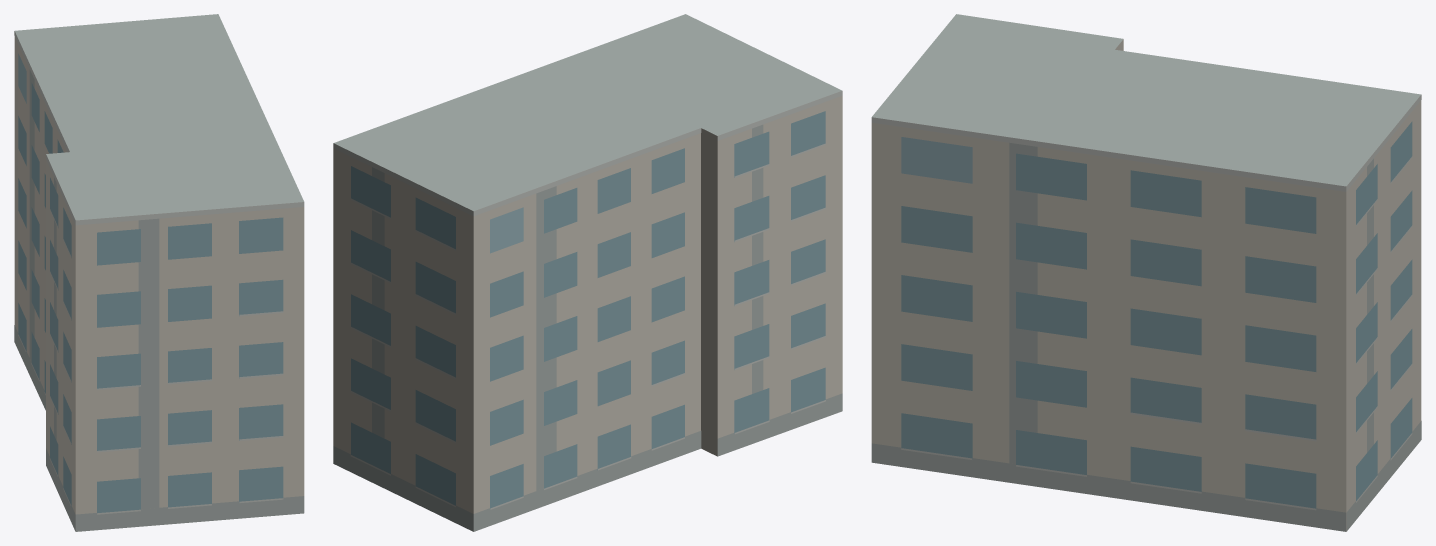
File: survey-upis-32769947.glb
3 renders of one model, left to right at view 1: azimuth 30°, elevation 25°; view 2: azimuth 150°, elevation 25°; view 3: azimuth 270°, elevation 25°, orthographic. The views are drawn at different scales.
Parts seen in each view (by area): view 1: survey-upis-32769947.tmp; view 2: survey-upis-32769947.tmp; view 3: survey-upis-32769947.tmp.
Part boxes in pixels (x1,y1,x2,y2): survey-upis-32769947.tmp: (14, 14, 304, 531); survey-upis-32769947.tmp: (333, 14, 842, 531); survey-upis-32769947.tmp: (871, 14, 1421, 531).
Size of the model in its own units: 16.49 by 15.39 by 22.21.
